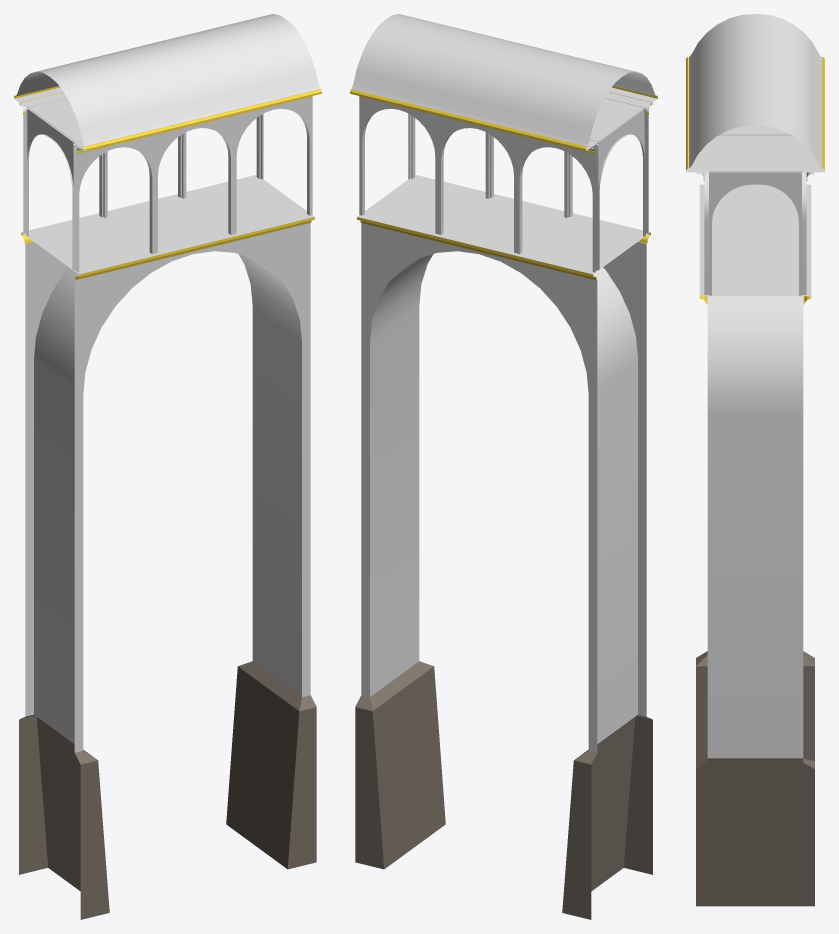
The model's file is bridge_01.fbx.
The picture shows the model from 3 angles, left to right: view 1: azimuth 30°, elevation 25°; view 2: azimuth 150°, elevation 25°; view 3: azimuth 270°, elevation 25°; orthographic projection. The views are drawn at different scales.
Visible parts, largest first — view 1: bridge_01.0; view 2: bridge_01.0; view 3: bridge_01.0.
Boxes of the visible parts, x1,y1,x2,y2 form: bridge_01.0: (14, 14, 321, 919); bridge_01.0: (350, 14, 657, 919); bridge_01.0: (686, 14, 824, 906).
Bounding box in the file's own units: 57.7 × 192 × 30.36.
